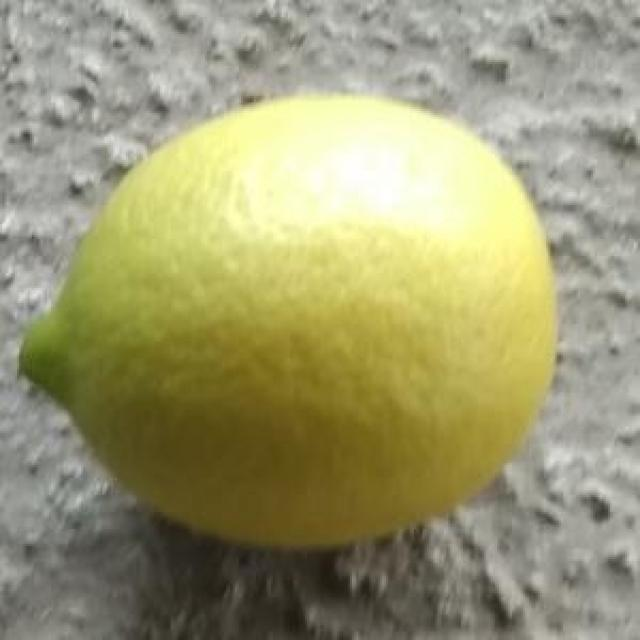lemon: (18, 87, 562, 558)
